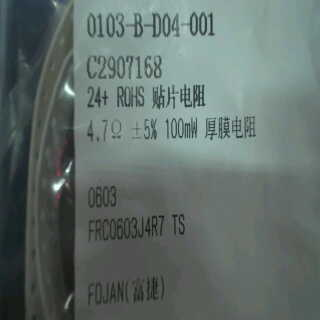4.7R: (83, 115, 126, 149)
